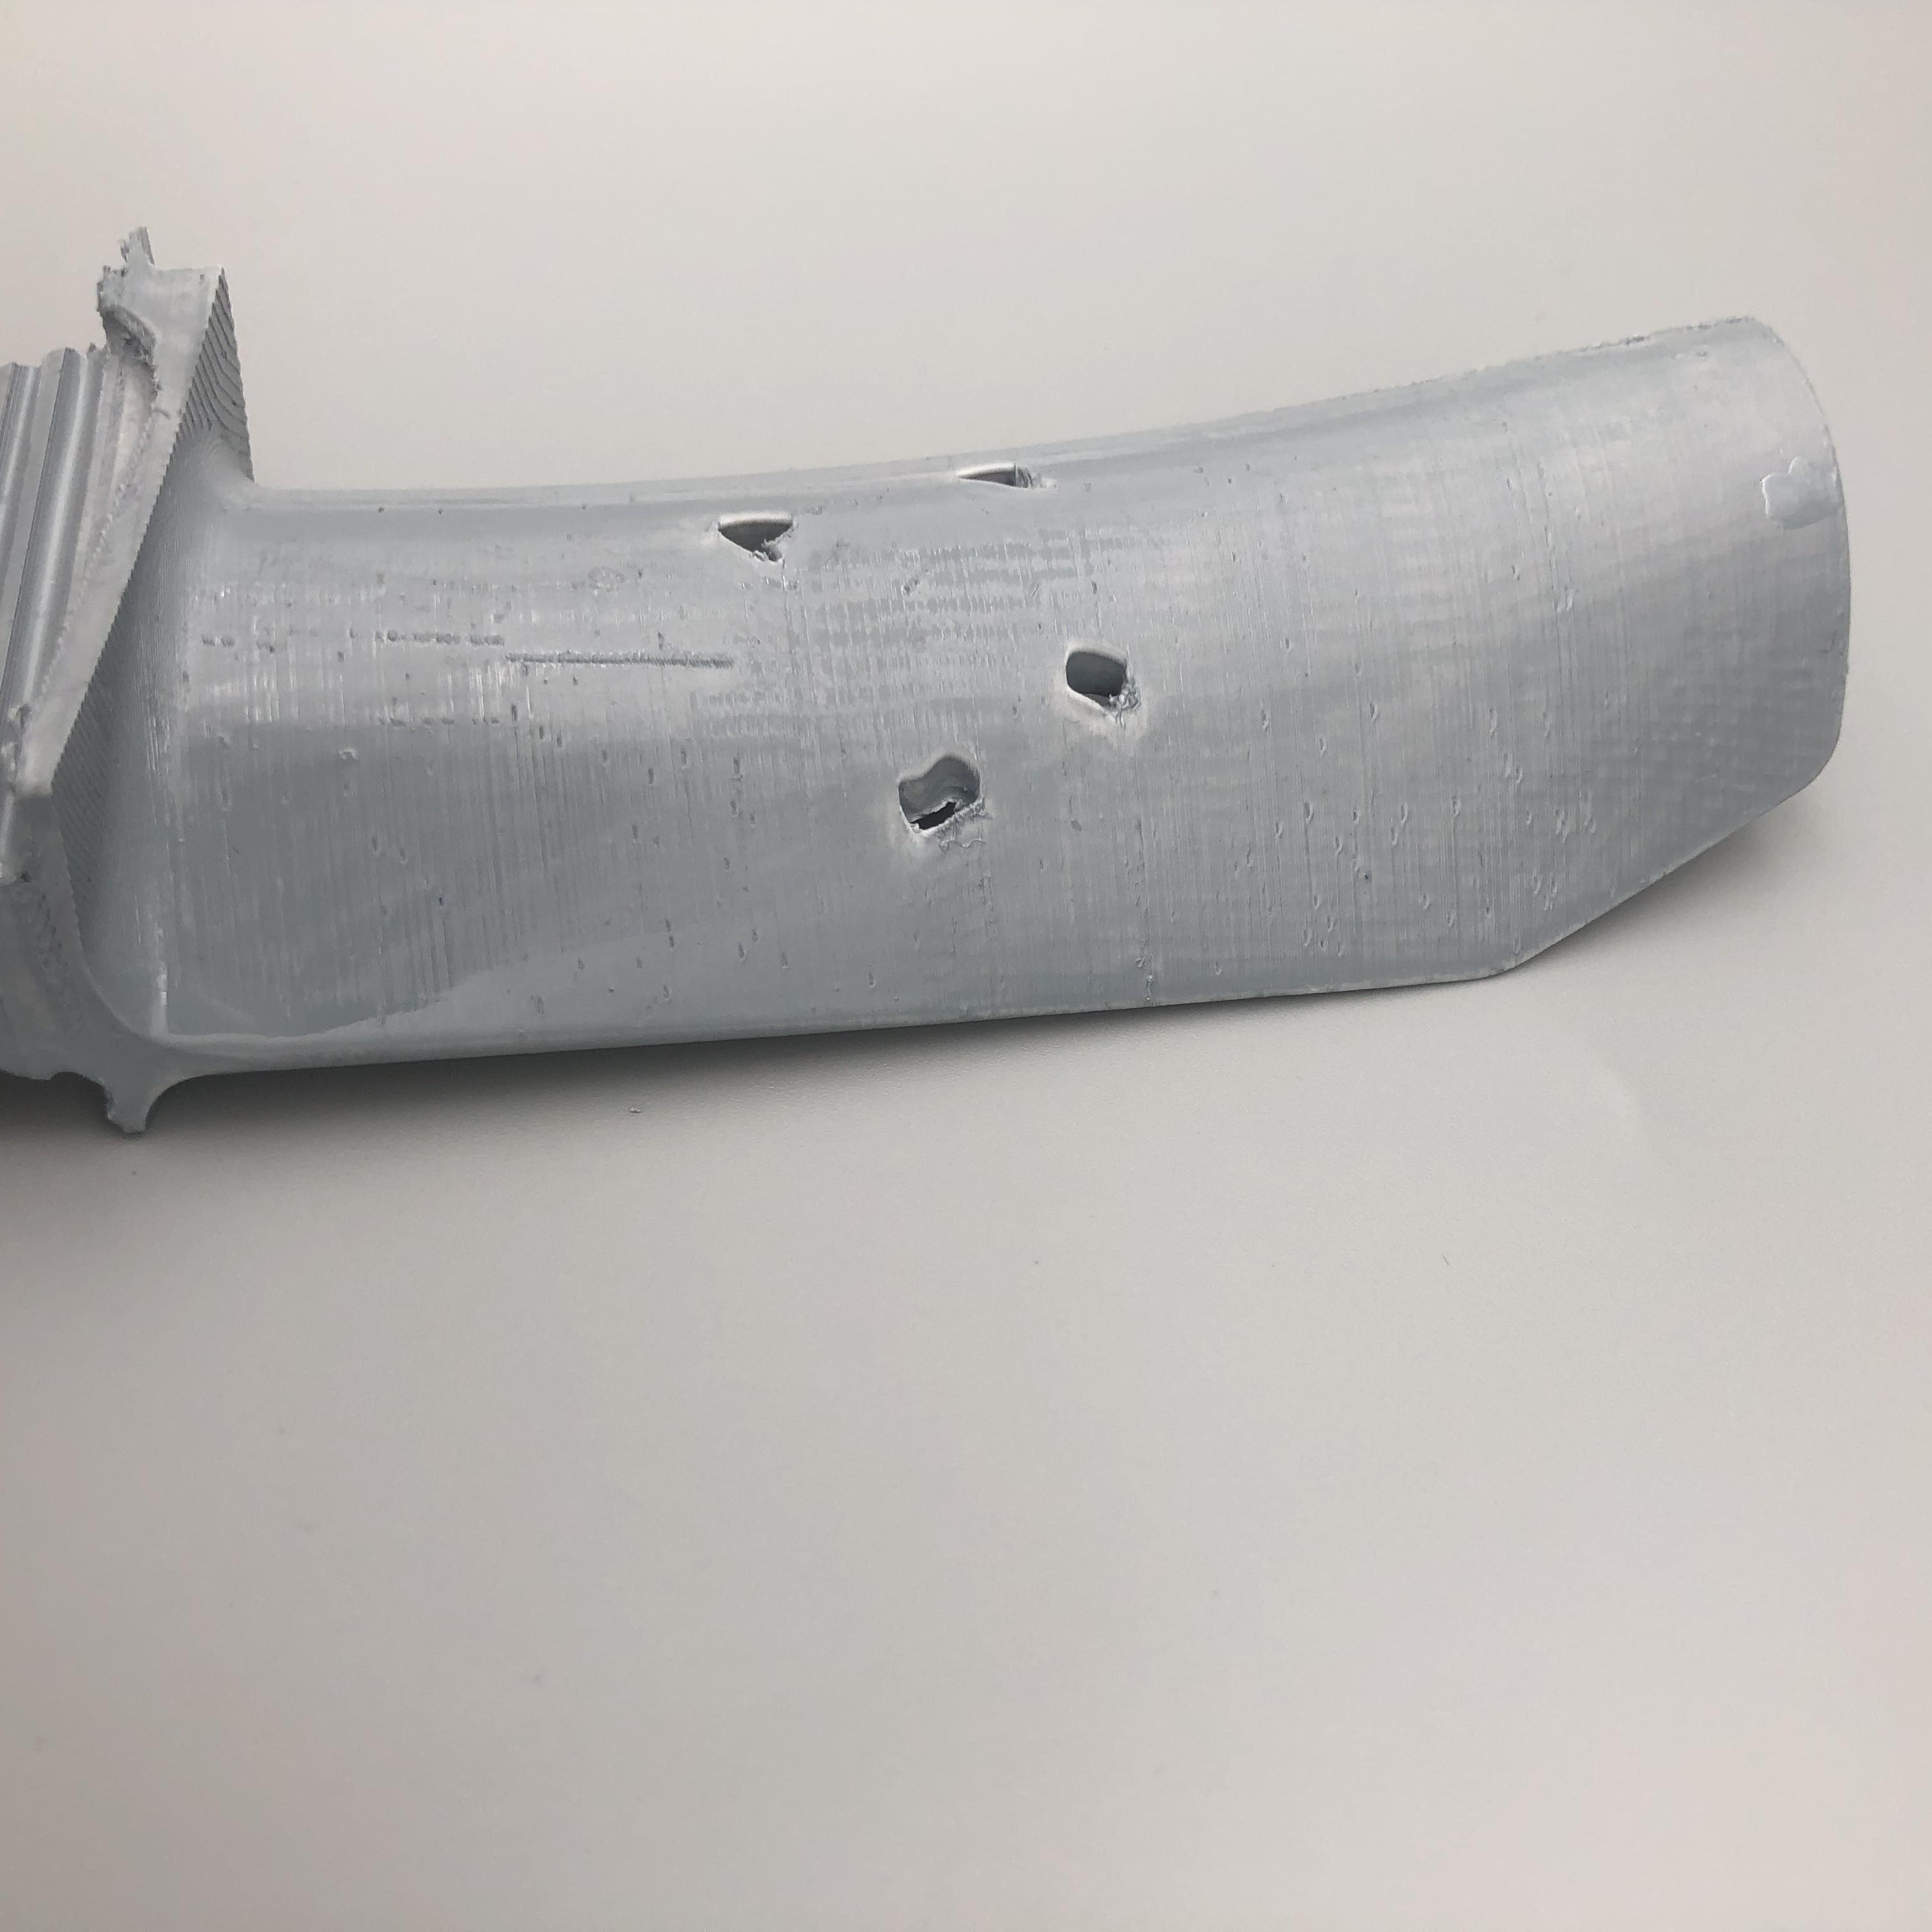breakdown: (878, 640, 1150, 856), (702, 462, 1081, 573)
